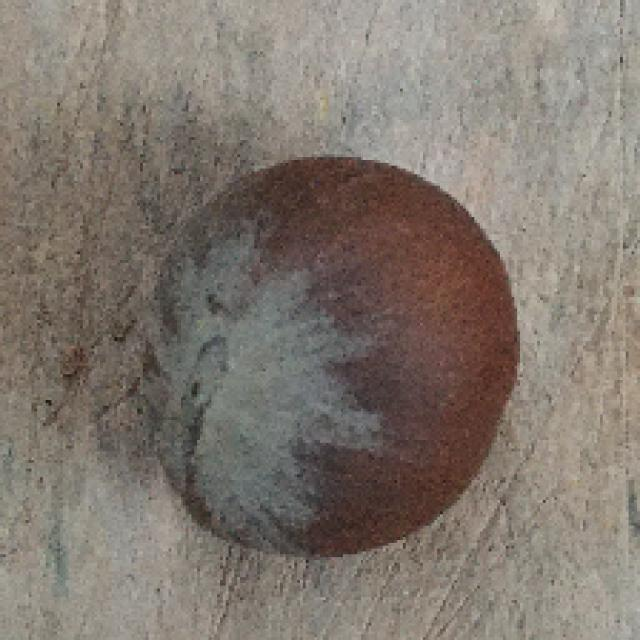DamagedHazelnut: (144, 153, 518, 545)
